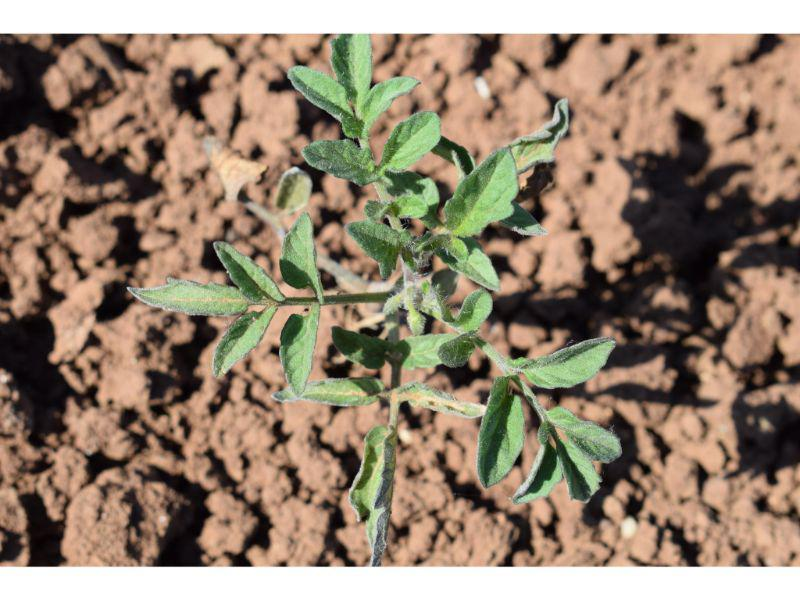tomato: (129, 30, 621, 566)
